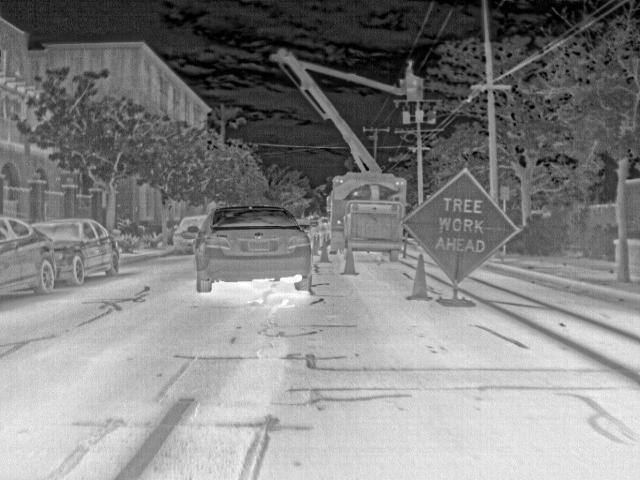car: (197, 206, 311, 296), (0, 213, 58, 300), (50, 216, 121, 285), (171, 213, 206, 253), (299, 216, 316, 232), (313, 216, 331, 230)
person: (403, 56, 418, 77)
